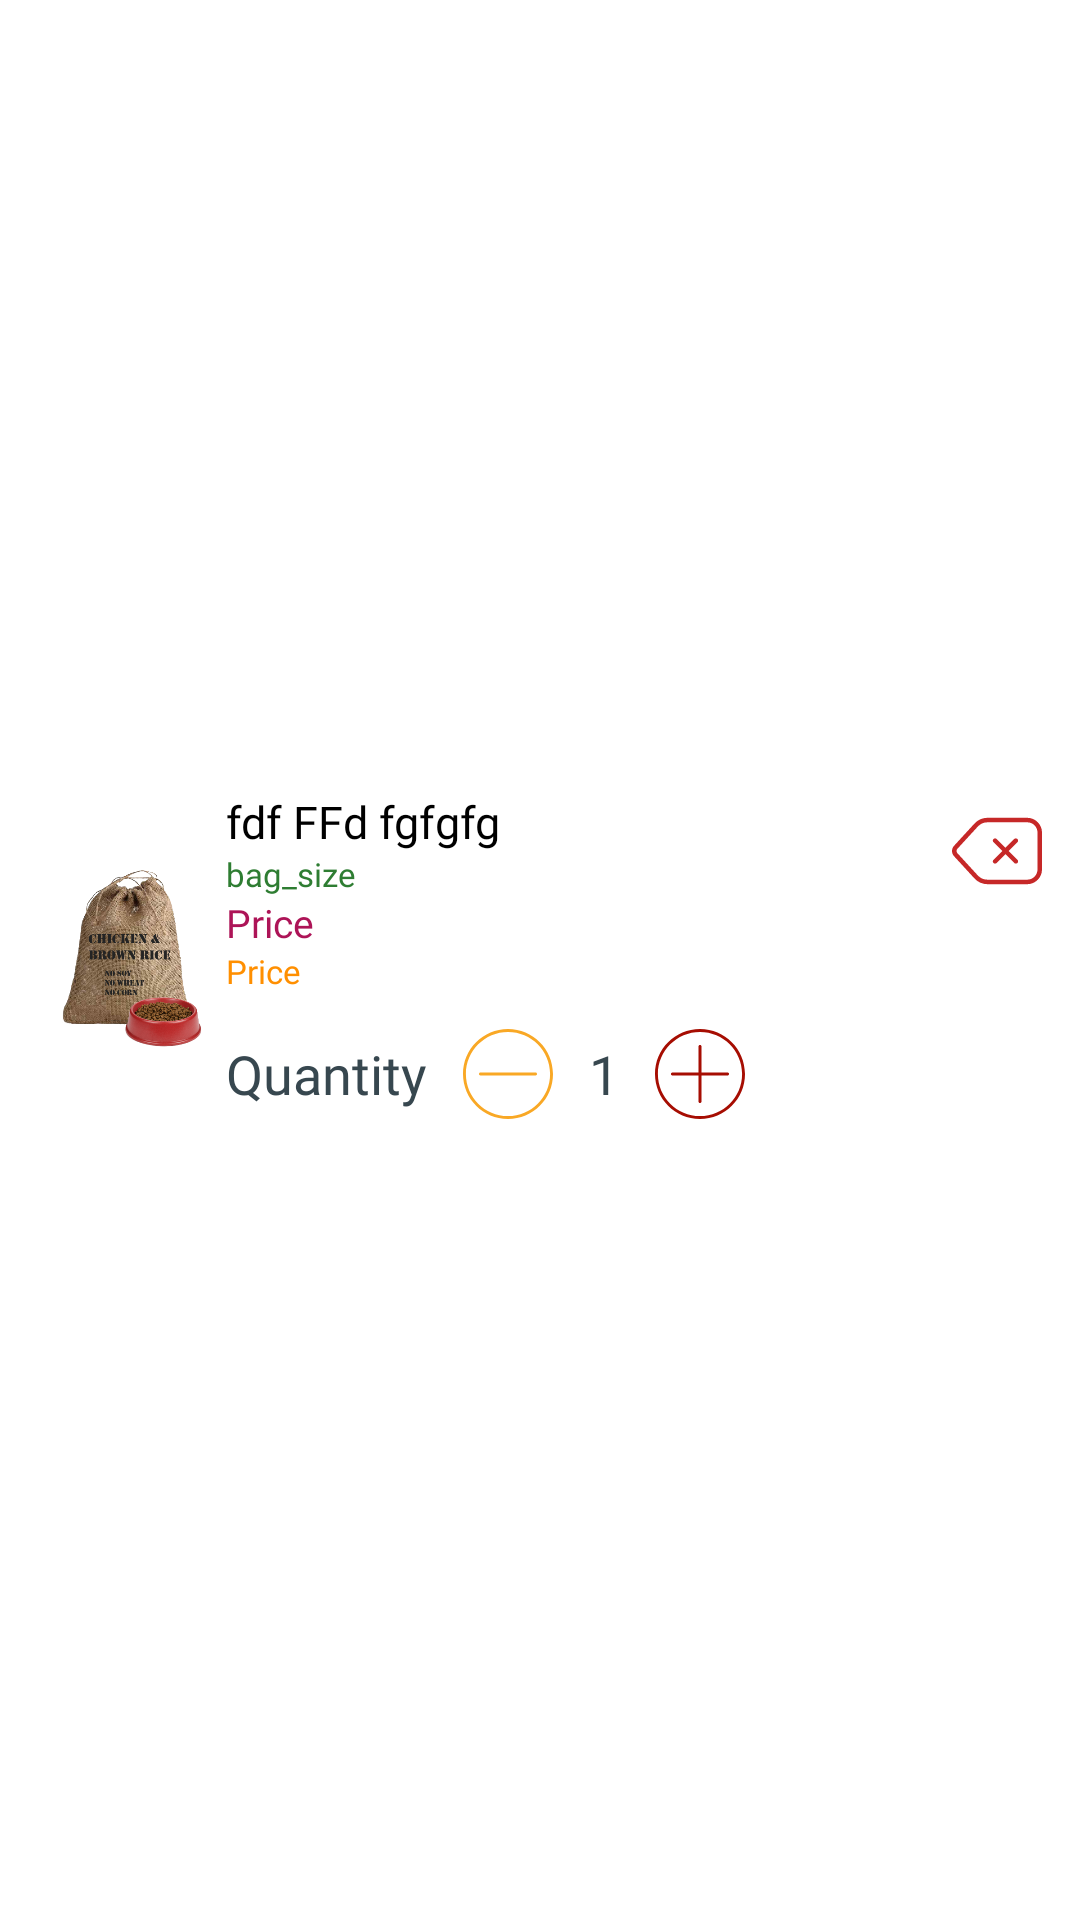

Screen size 1080w x 1920h. Icon name, then its center in pixels as (x,y):
add: (700,1074)
delete: (997,851)
minus: (508,1074)
